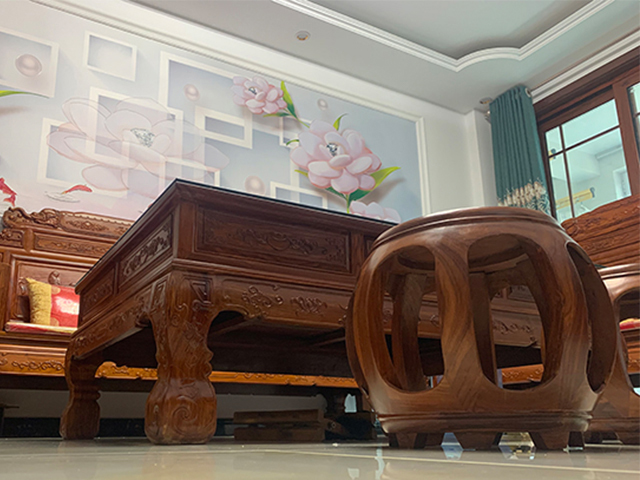sofa: (1, 207, 133, 391)
stool: (345, 205, 620, 455)
table: (58, 177, 544, 445)
